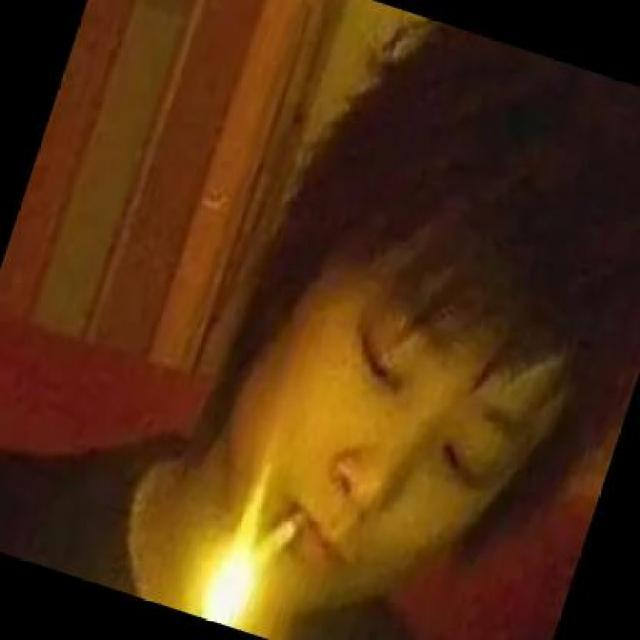smoke: (232, 498, 311, 594)
